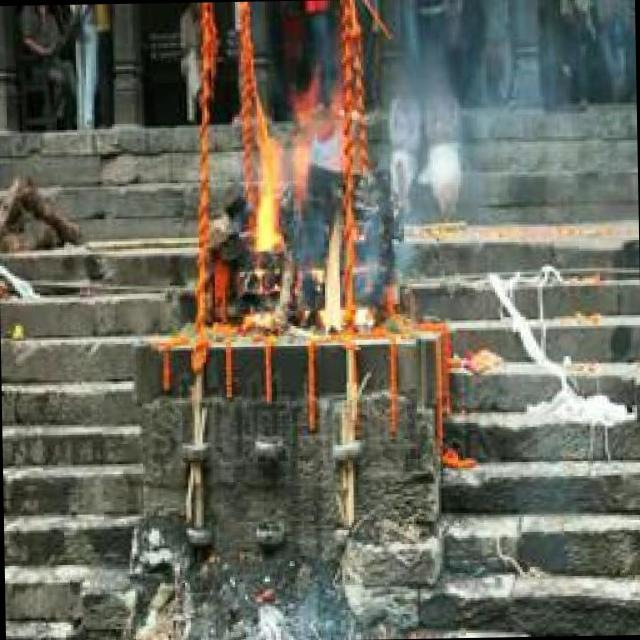Fire: (248, 79, 376, 333)
